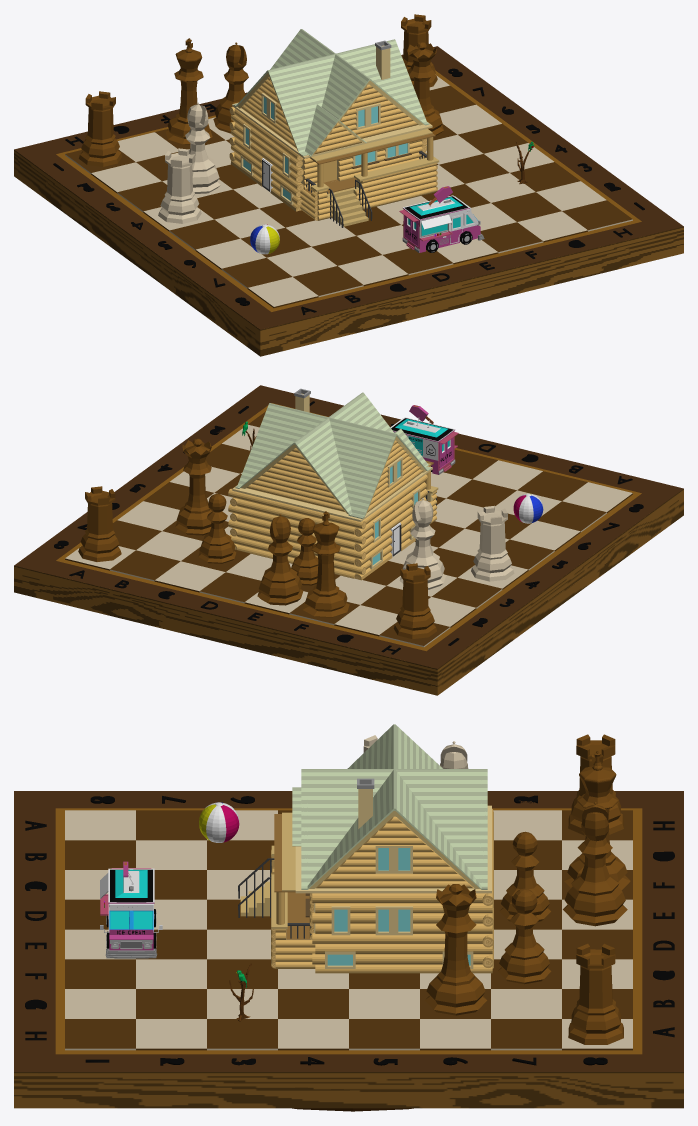
3 renders of one model, top to bottom at view 1: azimuth 30°, elevation 25°; view 2: azimuth 150°, elevation 25°; view 3: azimuth 270°, elevation 25°, orthographic. The views are drawn at different scales.
Visible parts, largest first — view 1: Cube.002, Cube.1516, VEHICLES_ICE_CREAM_TRUCK, OBJRANDOM_BEACHBALL; view 2: Cube.002, Cube.1516, VEHICLES_ICE_CREAM_TRUCK, OBJRANDOM_BEACHBALL; view 3: Cube.002, Cube.1516, VEHICLES_ICE_CREAM_TRUCK, OBJRANDOM_BEACHBALL.
Boxes of the visible parts, left/top/right/bottom form: Cube.002: left=14, top=14, right=683, bottom=356; Cube.1516: left=229, top=29, right=439, bottom=227; VEHICLES_ICE_CREAM_TRUCK: left=399, top=186, right=484, bottom=252; OBJRANDOM_BEACHBALL: left=250, top=224, right=279, bottom=254; Cube.002: left=14, top=385, right=683, bottom=695; Cube.1516: left=228, top=388, right=438, bottom=580; VEHICLES_ICE_CREAM_TRUCK: left=390, top=405, right=458, bottom=474; OBJRANDOM_BEACHBALL: left=513, top=493, right=543, bottom=523; Cube.002: left=14, top=734, right=683, bottom=1108; Cube.1516: left=238, top=724, right=493, bottom=973; VEHICLES_ICE_CREAM_TRUCK: left=100, top=861, right=162, bottom=958; OBJRANDOM_BEACHBALL: left=199, top=802, right=239, bottom=842.
Size of the model in its own units: 3981 by 1551 by 4012.
50 materials, 3 textured.
